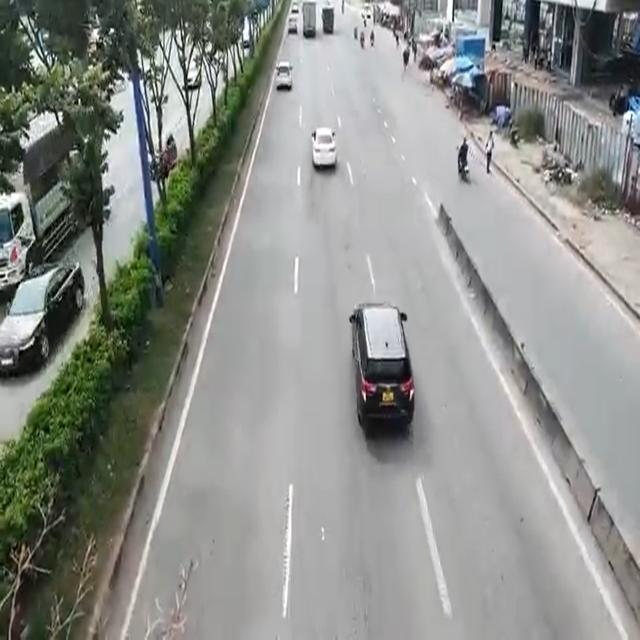car: (354, 307, 414, 430)
